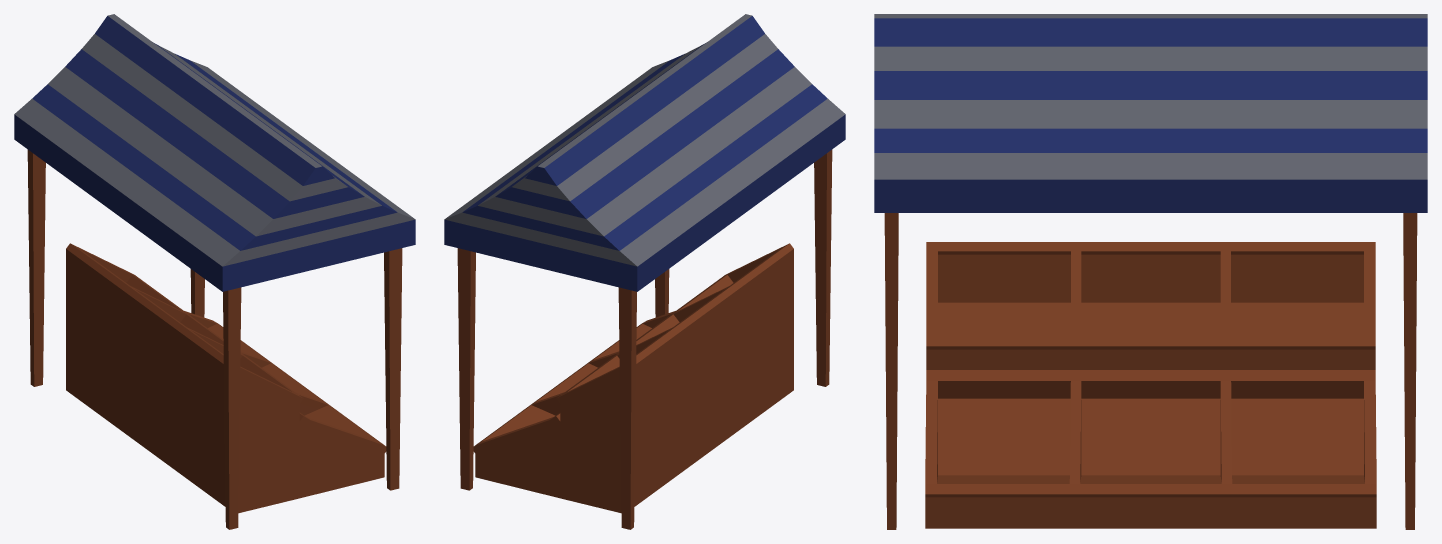
The model's file is Stall2.fbx.
3 renders of one model, left to right at view 1: azimuth 30°, elevation 25°; view 2: azimuth 150°, elevation 25°; view 3: azimuth 270°, elevation 25°, orthographic. The views are drawn at different scales.
Visible parts, largest first — view 1: Plane.004; view 2: Plane.004; view 3: Plane.004.
Part boxes in pixels (<box>): Plane.004: <box>14,14,415,529</box>; Plane.004: <box>444,14,845,529</box>; Plane.004: <box>874,14,1427,529</box>.
Bounding box in the file's own units: 276 × 472 × 515.
